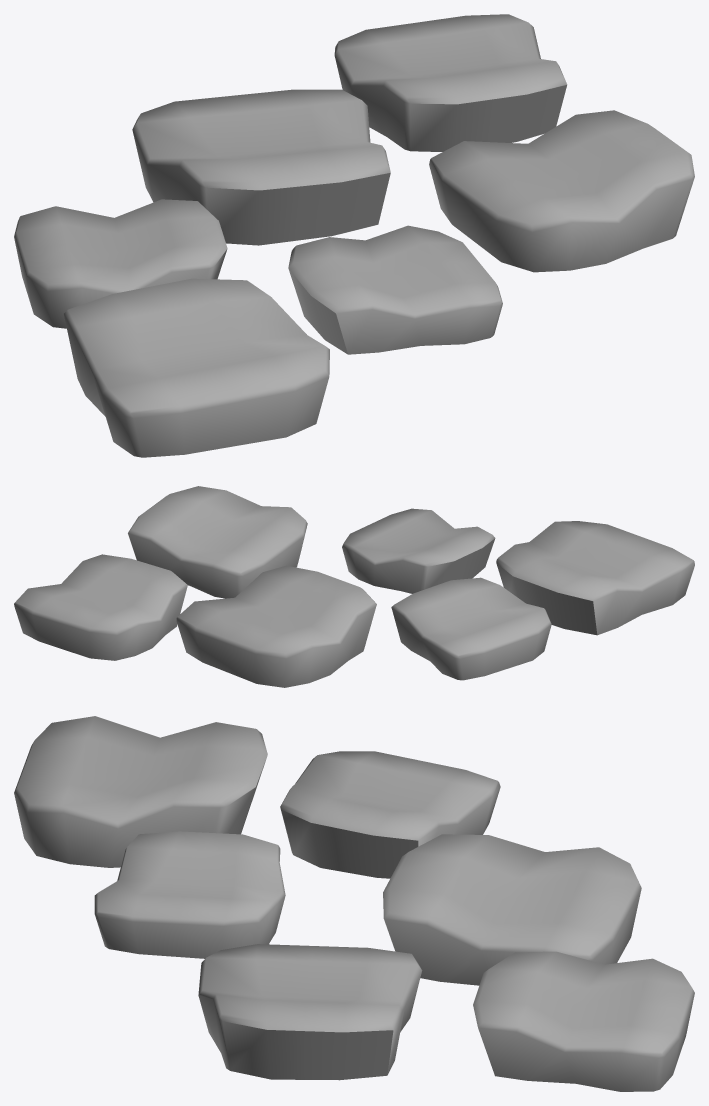
Rendered from Stone_Bridge.fbx.
The picture shows the model from 3 angles, top to bottom: view 1: azimuth 30°, elevation 25°; view 2: azimuth 150°, elevation 25°; view 3: azimuth 270°, elevation 25°; orthographic projection. The views are drawn at different scales.
Parts seen in each view (by area): view 1: Rock_5.006; view 2: Rock_5.006; view 3: Rock_5.006.
Part boxes in pixels (x1,y1,x2,y2): Rock_5.006: (14,14,694,457); Rock_5.006: (14,486,694,687); Rock_5.006: (14,716,694,1091).
Size of the model in its own units: 2.75 by 0.2612 by 2.38.
